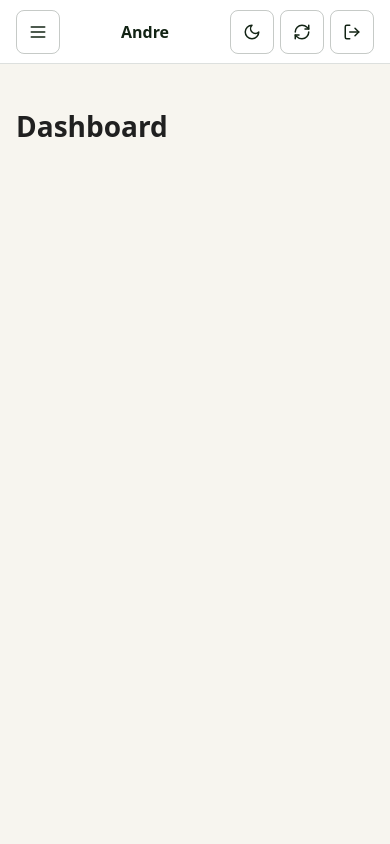
Test case: AdminLayout › opens mobile navigation from the header menu button
Click the button named "Abrir navegação" at {"x": 38, "y": 32}, box [16,10,60,54]
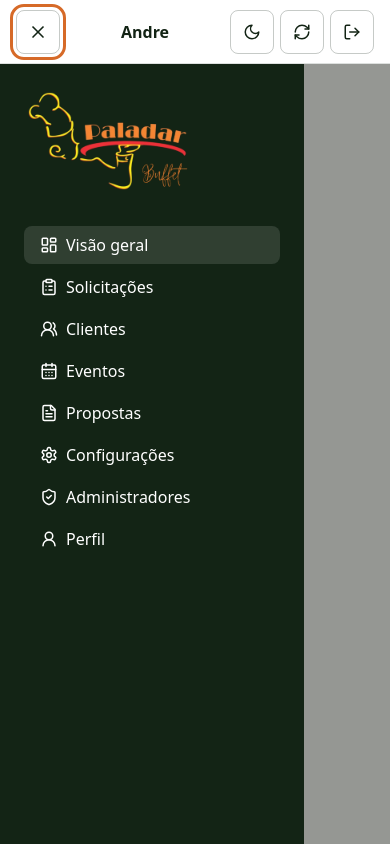
Now the button named "Fechar navegação" is expanded, box [16,10,60,54]
